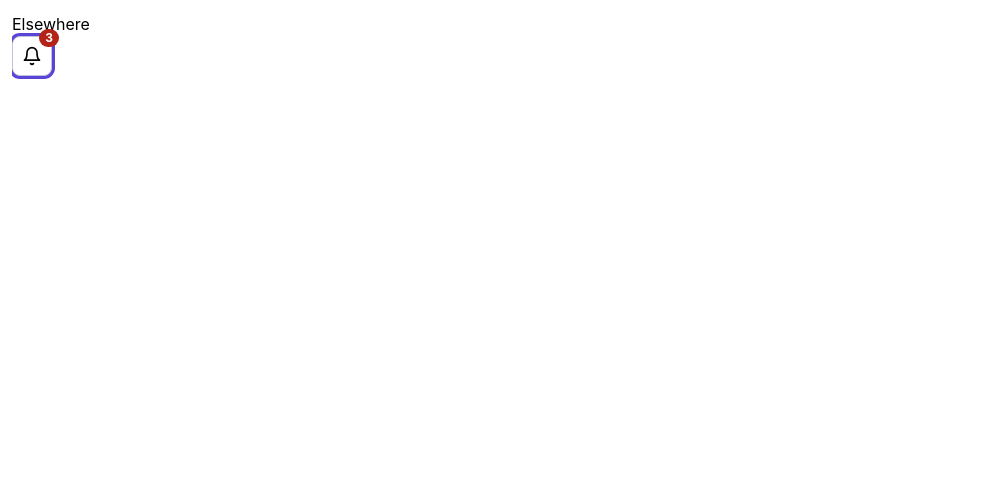
Test: Space opens the panel, and pressing the control again closes it
This screenshot has width=1002, height=481.
Expected: the text "3" is shown, x1=39 y1=29 x2=59 y2=47
Type keys " "
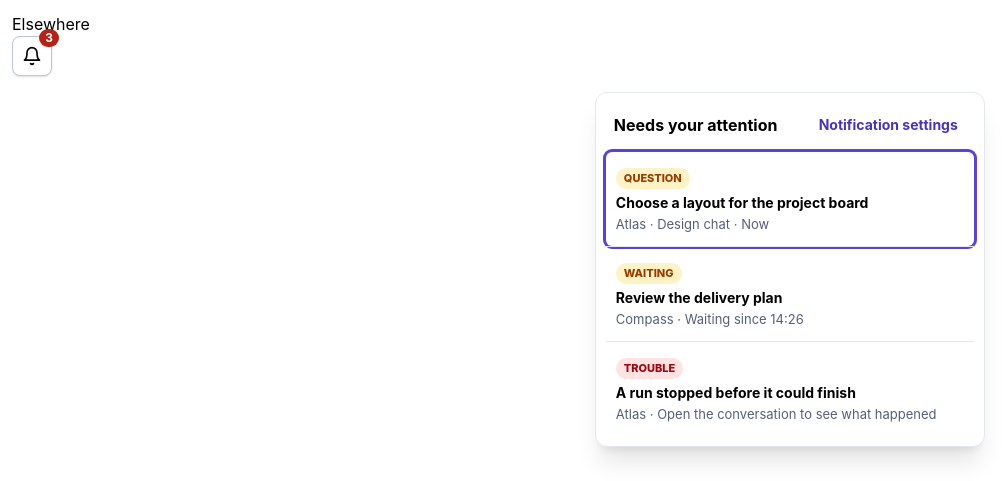
Expected: the element "Needs your attention" is shown, x1=595 y1=92 x2=985 y2=447
Click the button named "Open attention center".
click(32, 56)  # box x1=12 y1=36 x2=52 y2=76
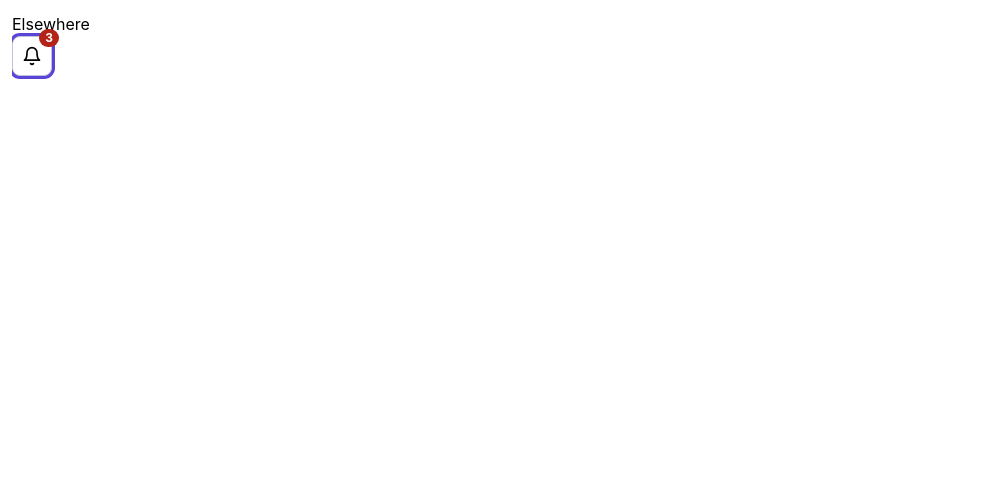
Expected: the heading "Needs your attention" is gone
